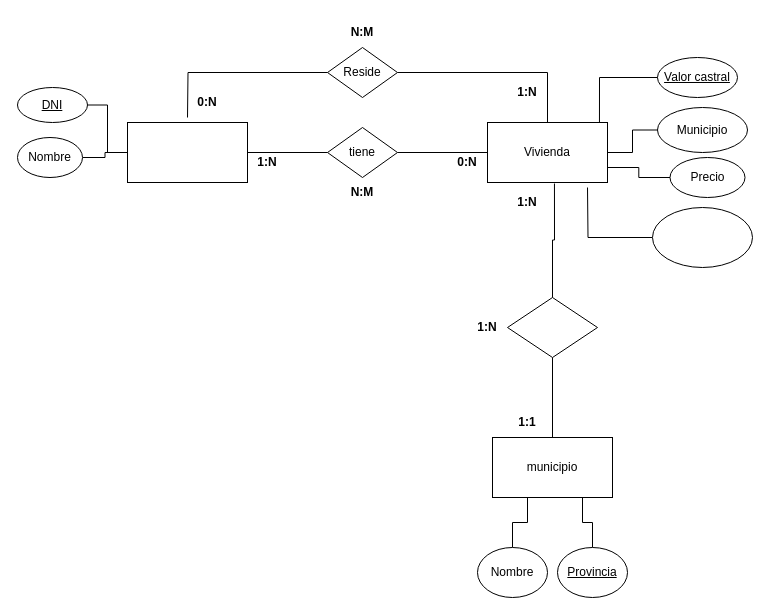
Some shapes in this 770 by 615 pixel diagram are drawn without their labels. Here are the shapes that lost their labels. From the top down, the centre of each, then its label:
At point (187, 152): "Persona".
At point (702, 237): "Fecha compra último propietario".
At point (552, 327): "pertenece".
